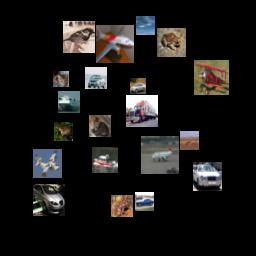airplane: (96, 25, 134, 63), (141, 136, 179, 174), (194, 60, 229, 95), (33, 149, 62, 178), (136, 16, 155, 35)
automobile: (33, 184, 65, 216), (193, 162, 222, 191), (85, 67, 107, 89), (135, 192, 154, 211), (130, 78, 146, 94)
bird: (63, 21, 95, 53)
cat: (89, 115, 111, 137), (53, 71, 69, 87)
deer: (180, 131, 199, 150)
frog: (157, 28, 186, 57), (111, 195, 133, 217), (54, 122, 73, 141)
ship: (92, 147, 118, 173), (58, 91, 80, 113)
truck: (126, 95, 158, 127)
